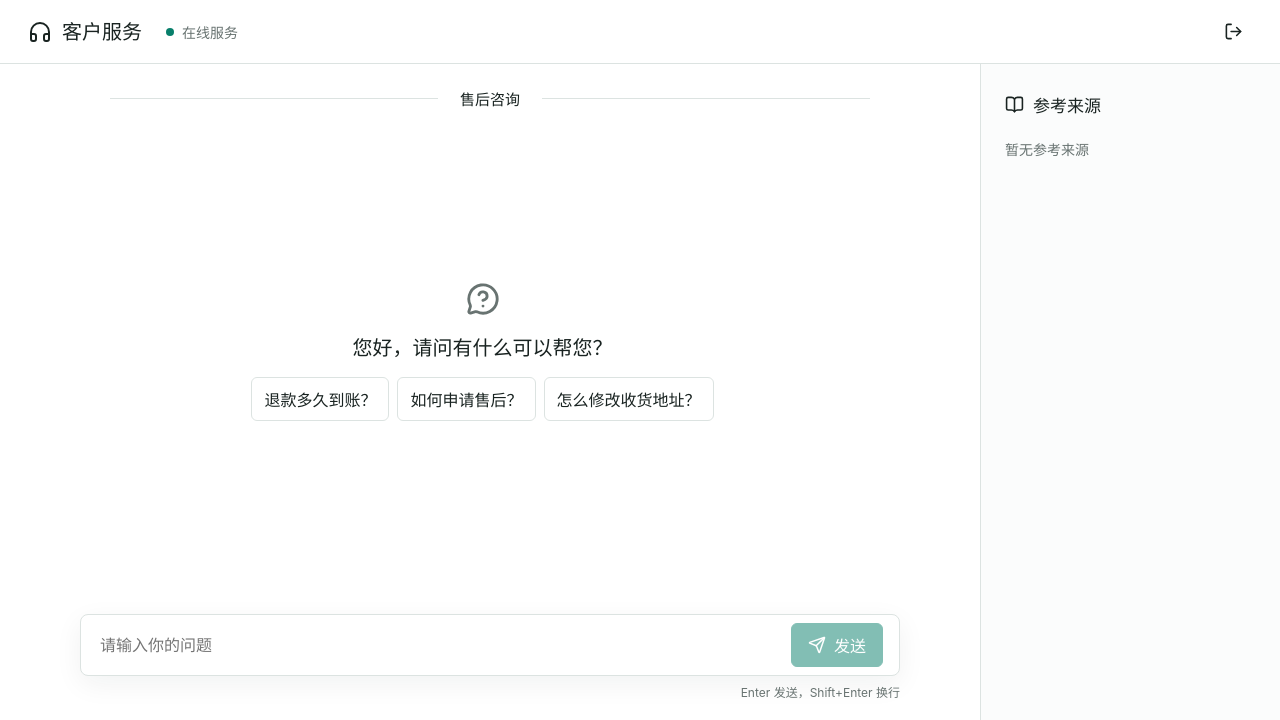
Test: ConsultationPage › renders the streaming answer, citation and completed-attempt actions
Step 1. Type "退款审核通过后多久到账？" into the text box named "咨询问题" → x=436, y=645, box top-left (89, 623), bottom-right (783, 667)
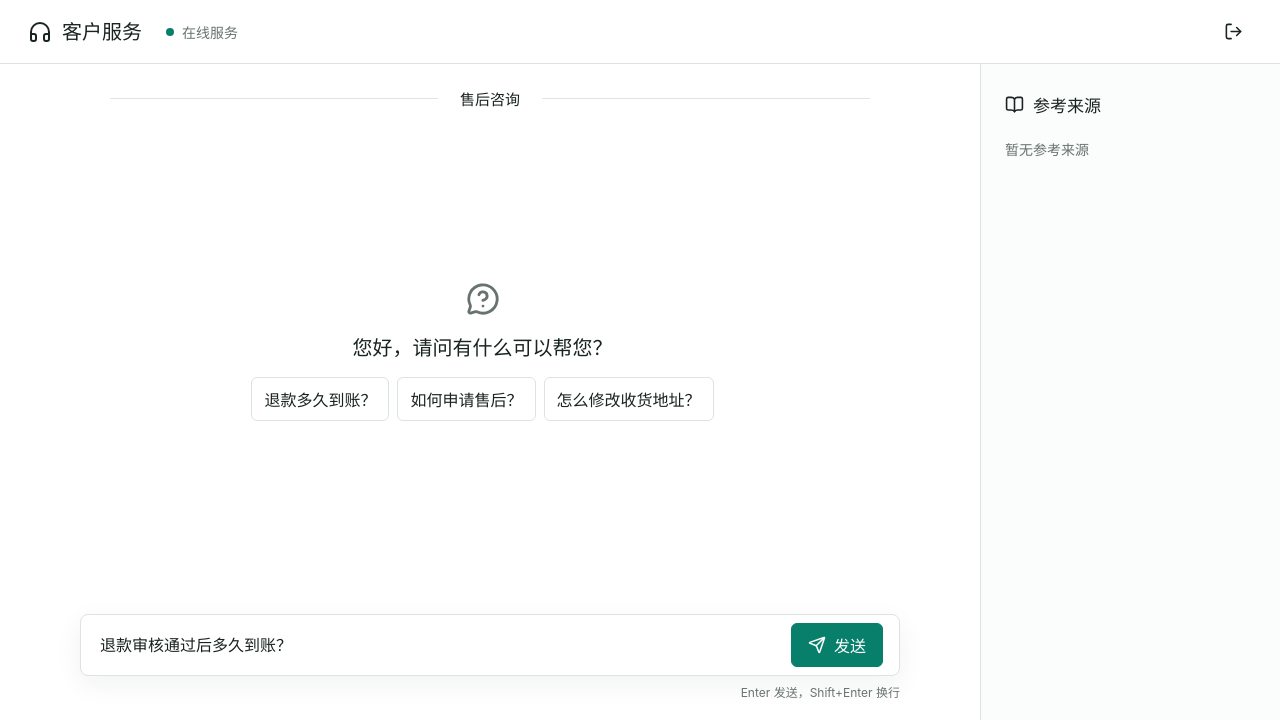
Step 2. Click the button "发送" → x=837, y=645, box top-left (791, 623), bottom-right (883, 667)
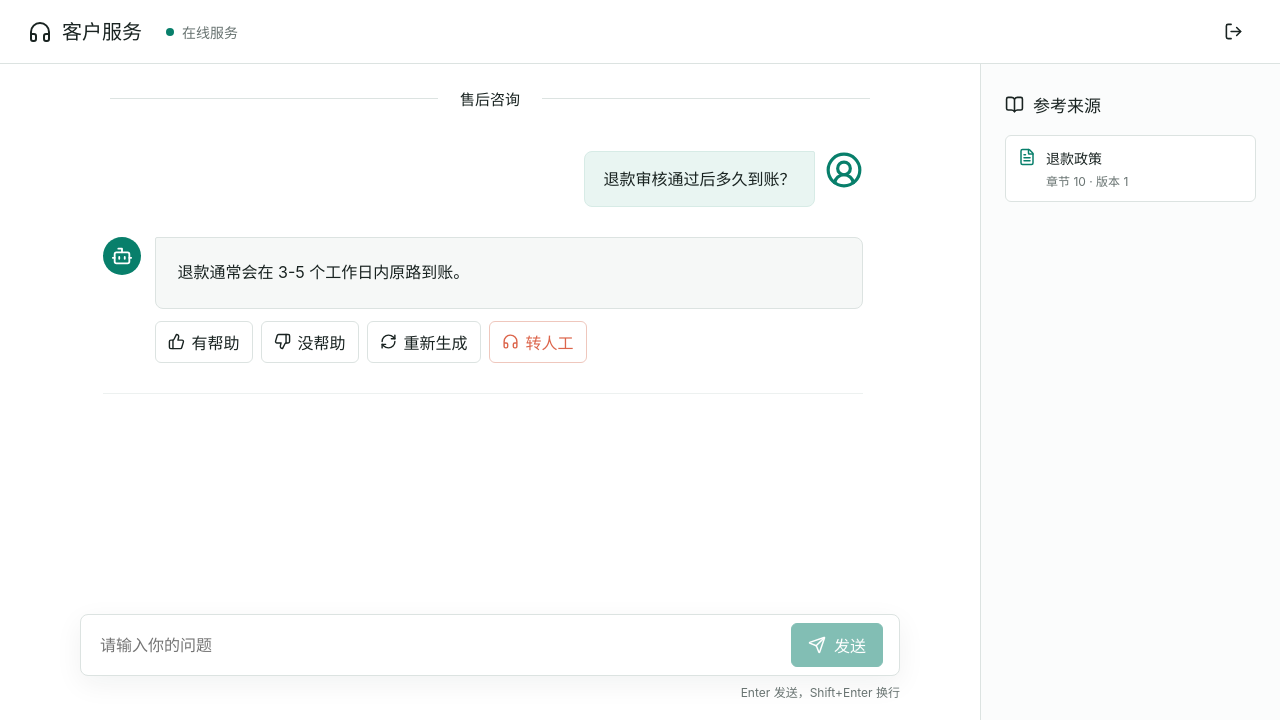
Result: the text "退款通常会在 3-5 个工作日内原路到账。" is shown at top-left (178, 262), bottom-right (469, 282)
Result: the button "有帮助" is enabled at top-left (154, 321), bottom-right (252, 363)
Result: the button "重新生成" is enabled at top-left (366, 321), bottom-right (480, 363)
